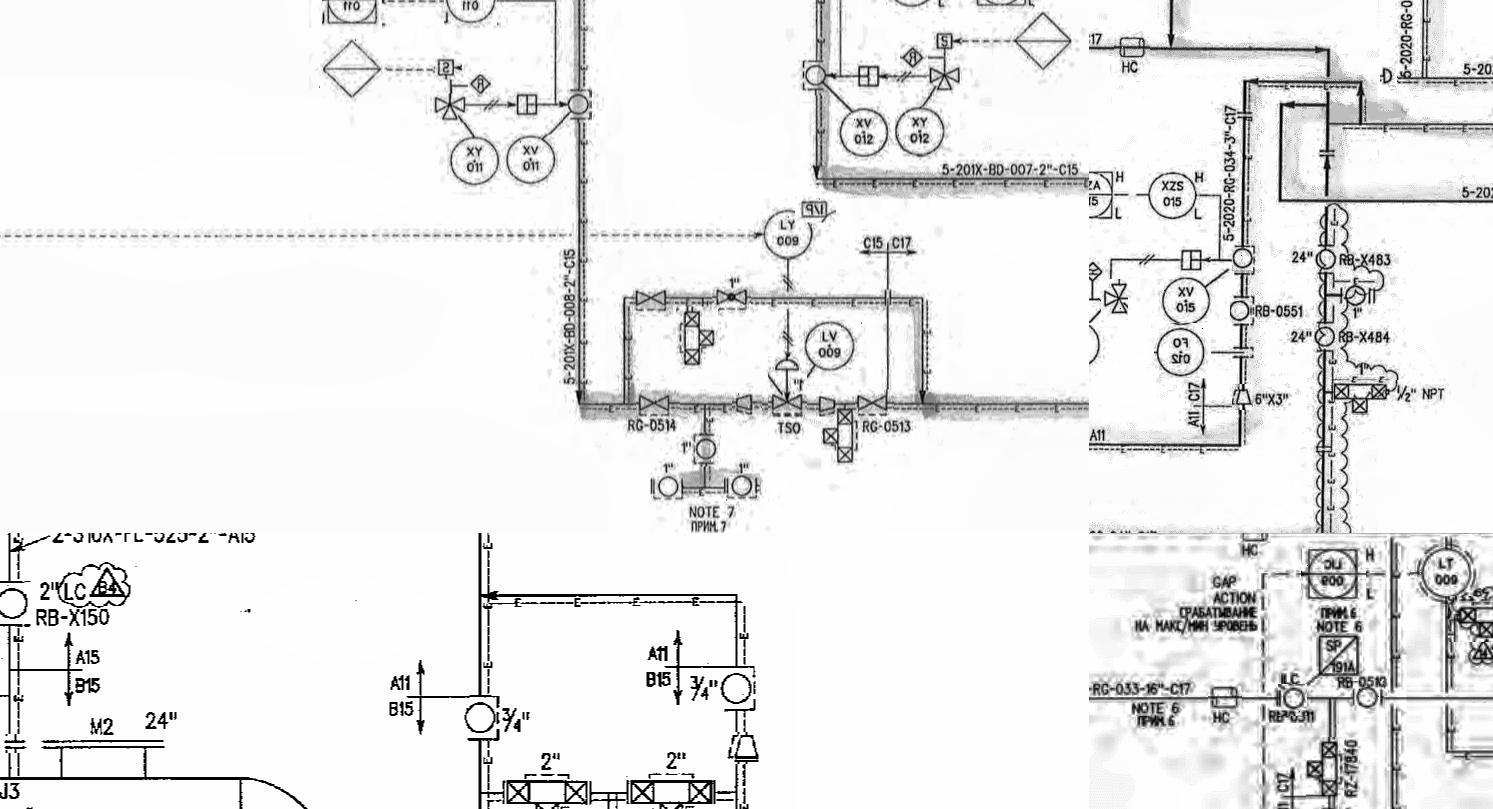2 WAY VALVE: (616, 771, 712, 809), (499, 774, 593, 809), (677, 306, 720, 374), (1307, 738, 1347, 806), (820, 407, 859, 469), (1334, 381, 1402, 415), (1448, 598, 1493, 644)
3 WAY GENERAL VALVE: (429, 94, 474, 122), (1102, 280, 1130, 322), (927, 65, 966, 95)
BLIND SPADE OPEN: (1314, 801, 1357, 809)
CONCENTRIC REDUCER: (720, 732, 762, 764), (732, 388, 762, 422), (816, 390, 837, 416), (1232, 385, 1252, 412)
CONNECTOR: (0, 734, 26, 753)
DCS ACCESSIBLE: (1301, 543, 1366, 601), (322, 0, 382, 34), (1089, 167, 1117, 223)
DIAPHRAGM ACTUATED VALVE: (768, 357, 807, 416)
DUPLEX RECEPTACLE: (1115, 32, 1151, 62), (1208, 685, 1242, 712), (1237, 533, 1271, 543)
END CAP: (1381, 68, 1399, 87)
END FLANGED: (1316, 145, 1340, 162)
FIELD INSTRUMENT: (1410, 536, 1481, 604), (800, 320, 864, 370), (1155, 323, 1213, 378), (757, 207, 816, 258), (504, 135, 557, 189), (1149, 168, 1199, 222), (896, 107, 951, 156), (1159, 277, 1213, 325), (840, 104, 890, 154), (449, 136, 500, 184), (459, 696, 500, 741), (718, 666, 757, 710), (444, 0, 497, 27), (647, 468, 683, 506), (0, 582, 32, 624), (799, 61, 834, 96), (724, 474, 760, 503), (691, 432, 720, 466), (1279, 684, 1309, 716), (564, 88, 592, 122), (1354, 682, 1384, 713), (1089, 324, 1103, 374), (1232, 249, 1253, 273), (1231, 301, 1252, 323)
GATE VALVE: (636, 390, 680, 421), (633, 285, 673, 314), (856, 390, 895, 419)
GLOBE VALVE: (712, 284, 752, 312)
HARDWIRED INTERLOCK FIELD: (1089, 256, 1105, 290)
HARDWIRED INTERLOCK PRIMARY.: (317, 39, 387, 104), (1013, 7, 1078, 77), (901, 43, 930, 68), (468, 75, 493, 96)
IP CONVERTER: (795, 196, 836, 224)
REVISION TRIANGLE: (85, 565, 143, 600), (1471, 636, 1493, 670)
SPECIAL PIPING ITEM: (1312, 632, 1368, 681)
SPEED FLOW METER: (435, 55, 462, 81), (932, 28, 958, 53), (1089, 288, 1100, 310)
